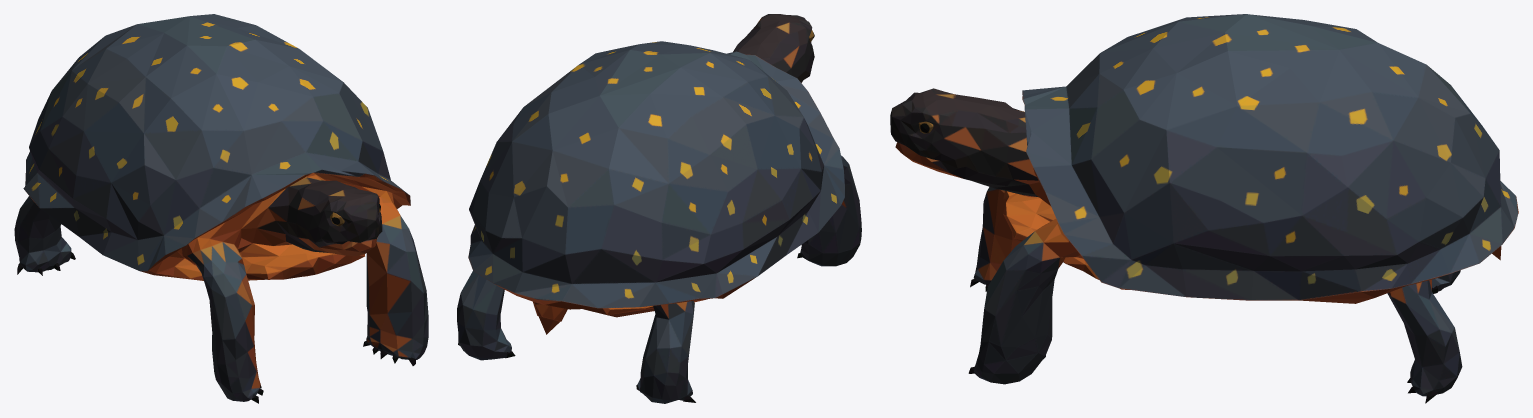
File: tortila.fbx
3 renders of one model, left to right at view 1: azimuth 30°, elevation 25°; view 2: azimuth 150°, elevation 25°; view 3: azimuth 270°, elevation 25°, orthographic. The views are drawn at different scales.
Visible parts, largest first — view 1: node_id30; view 2: node_id30; view 3: node_id30.
Part boxes in pixels (box(x1,y1,x2,y2)): node_id30: box(14, 14, 428, 403); node_id30: box(457, 14, 861, 403); node_id30: box(890, 14, 1518, 403).
Bounding box in the file's own units: 0.512 × 0.4604 × 0.856.
1 material, 1 textured.
